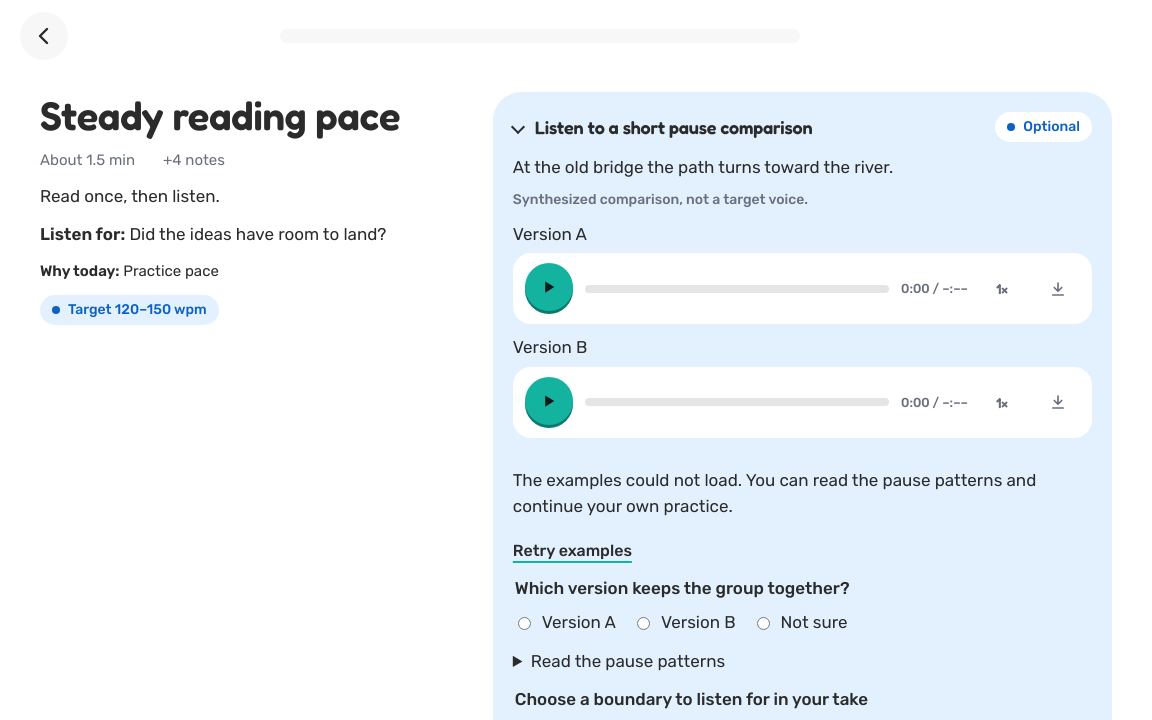
Test: a listening comparison remains optional after audio failure and saves an owned boundary with retry identity
Earlier steps of the test are not shown.
Later steps or results of the test are not shown.
expect the text "The examples could not load" is shown: met, box [513,470,1036,516]
Step 1. Click the radio button labelled "Not sure" → (763, 624), box [757,617,770,630]
(page scrolled)
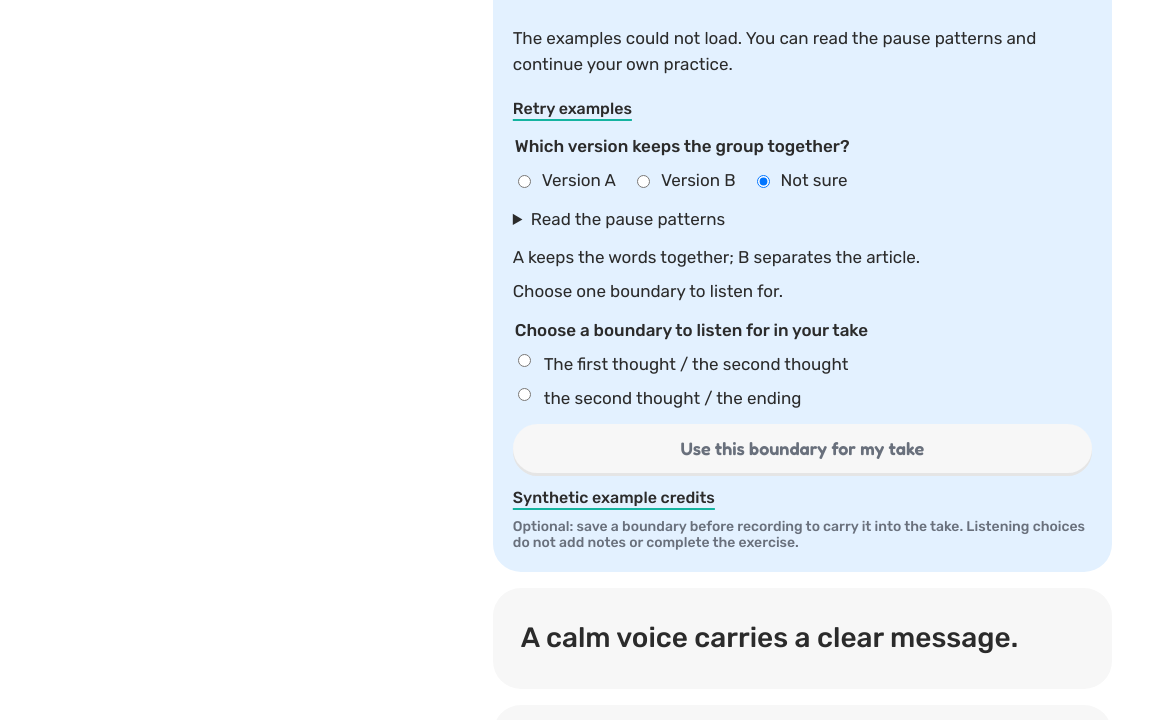
Step 2. Click the radio button labelled "The first thought / the second thought" → (524, 360), box [518,354,531,367]
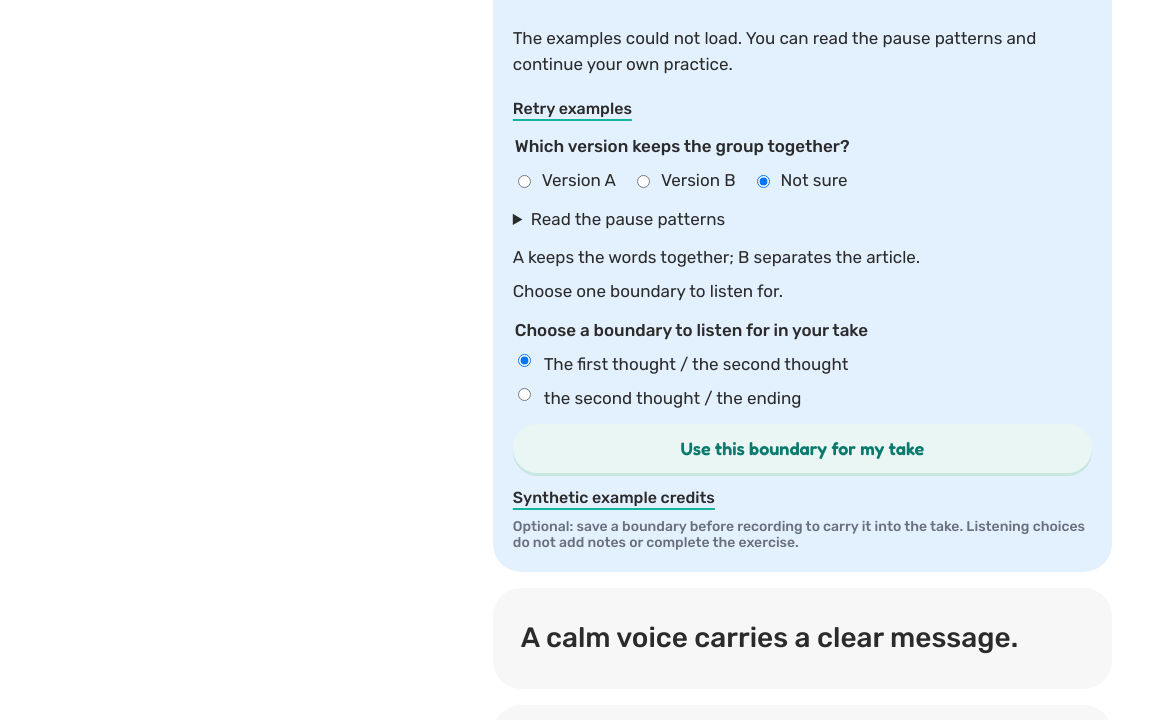
Step 3. Click the button "Use this boundary for my take" → (802, 448), box [513,424,1092,473]
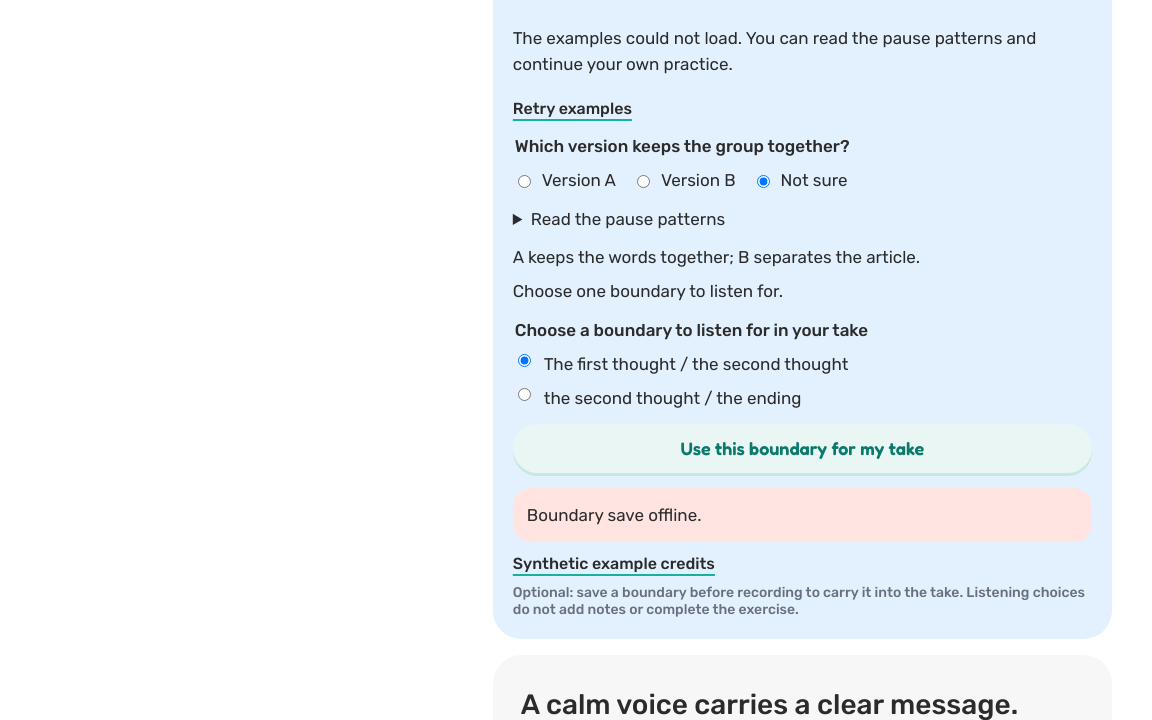
expect the text "Boundary save offline." is shown: met, box [527,502,702,528]
Step 4. Click the button "Use this boundary for my take" → (802, 448), box [513,424,1092,473]
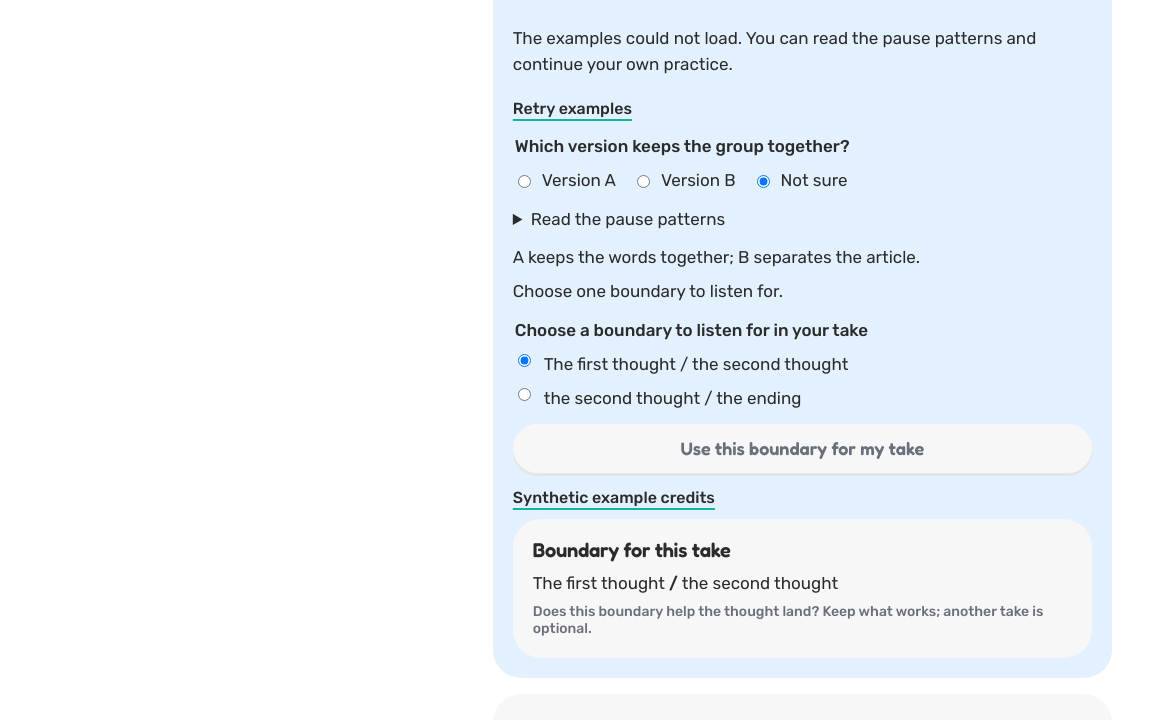
expect the heading "Boundary for this take" is shown: met, box [533,538,731,562]
